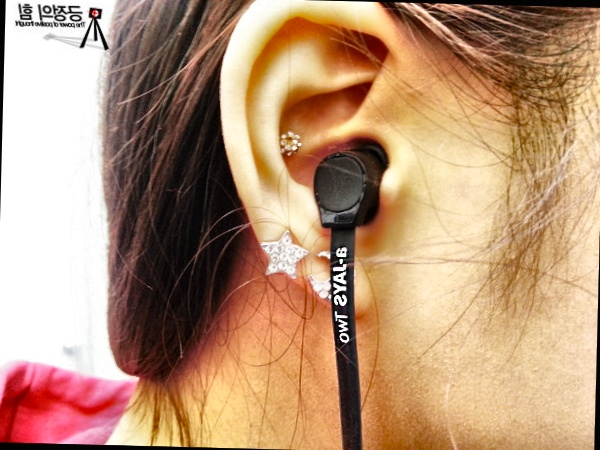earphone: (213, 0, 406, 320)
